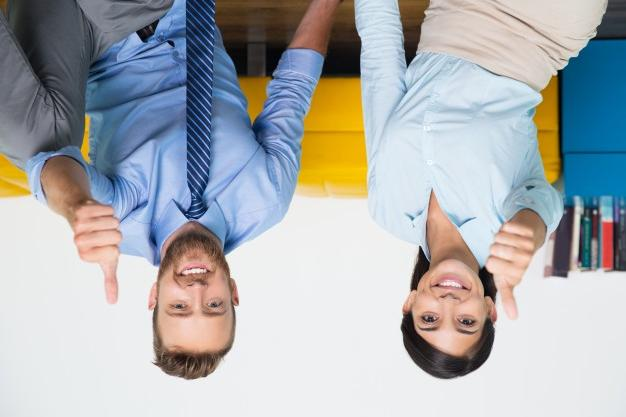thumbsdown: (73, 204, 123, 304), (486, 222, 536, 320)
